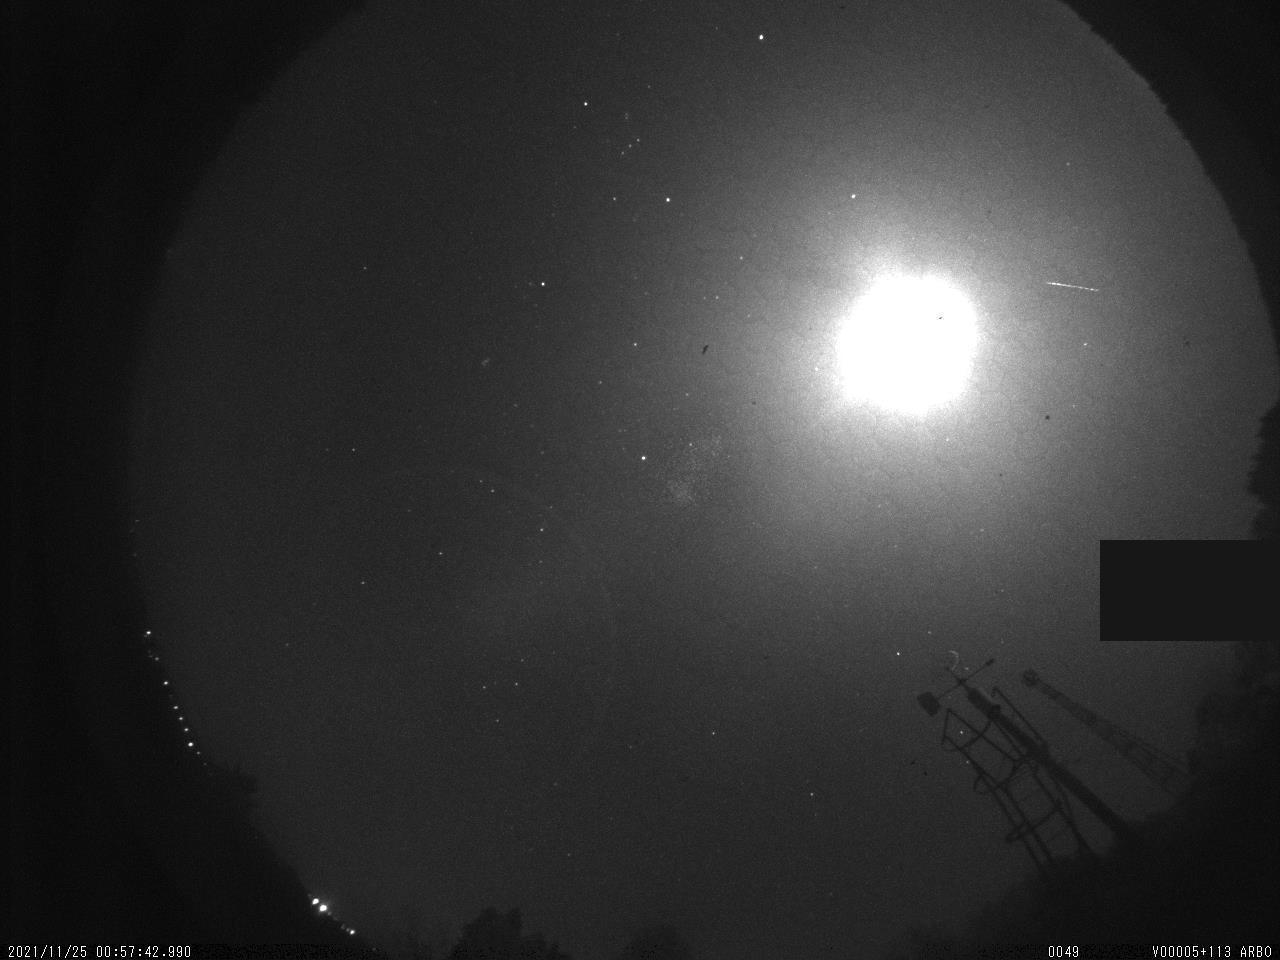meteor: (1039, 271, 1110, 301)
